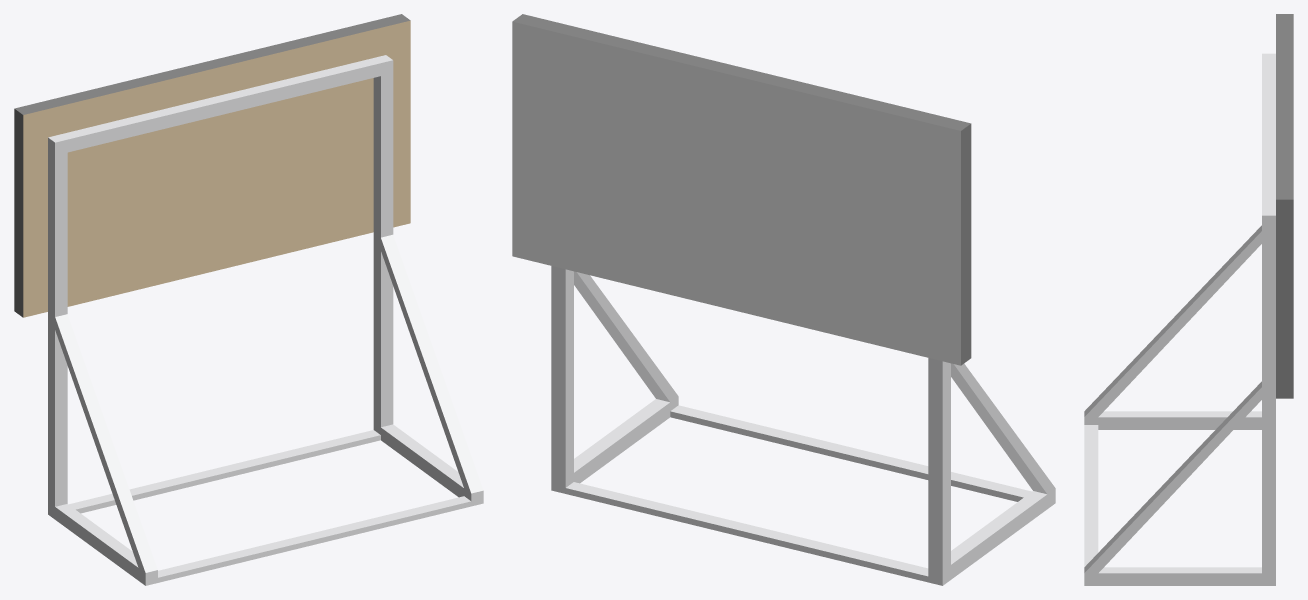
The picture shows the model from 3 angles, left to right: view 1: azimuth 30°, elevation 25°; view 2: azimuth 150°, elevation 25°; view 3: azimuth 270°, elevation 25°; orthographic projection. The views are drawn at different scales.
Visible parts, largest first — view 1: billboard; view 2: billboard; view 3: billboard.
Part boxes in pixels (x1,y1,x2,y2): billboard: (14,14,483,585); billboard: (512,14,1055,585); billboard: (1084,14,1293,585).
Size of the model in its own units: 10 by 10 by 4.76.
